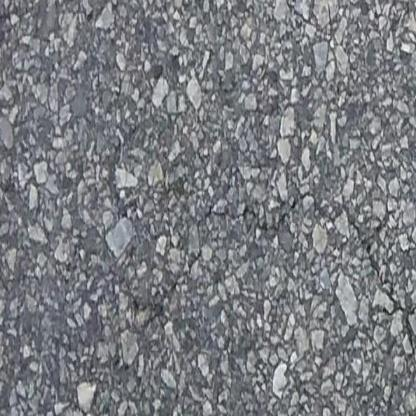Cracks: (344, 216, 416, 319), (196, 201, 280, 235), (283, 188, 321, 220)
